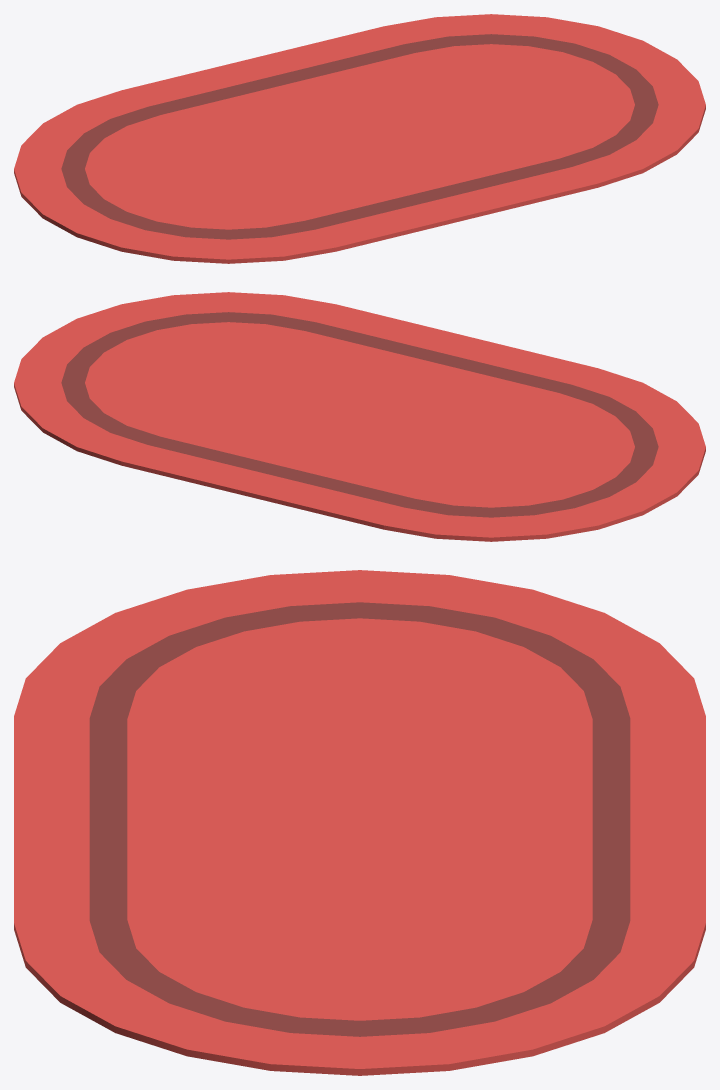
Rendered from rugRounded.obj.
The picture shows the model from 3 angles, top to bottom: view 1: azimuth 30°, elevation 25°; view 2: azimuth 150°, elevation 25°; view 3: azimuth 270°, elevation 25°; orthographic projection. The views are drawn at different scales.
Visible parts, largest first — view 1: rugRounded; view 2: rugRounded; view 3: rugRounded.
Boxes of the visible parts, x1,y1,x2,y2 form: rugRounded: (14,14,705,263); rugRounded: (14,292,705,541); rugRounded: (14,570,705,1075).
Bounding box in the file's own units: 1.57 × 0.01 × 0.92.
